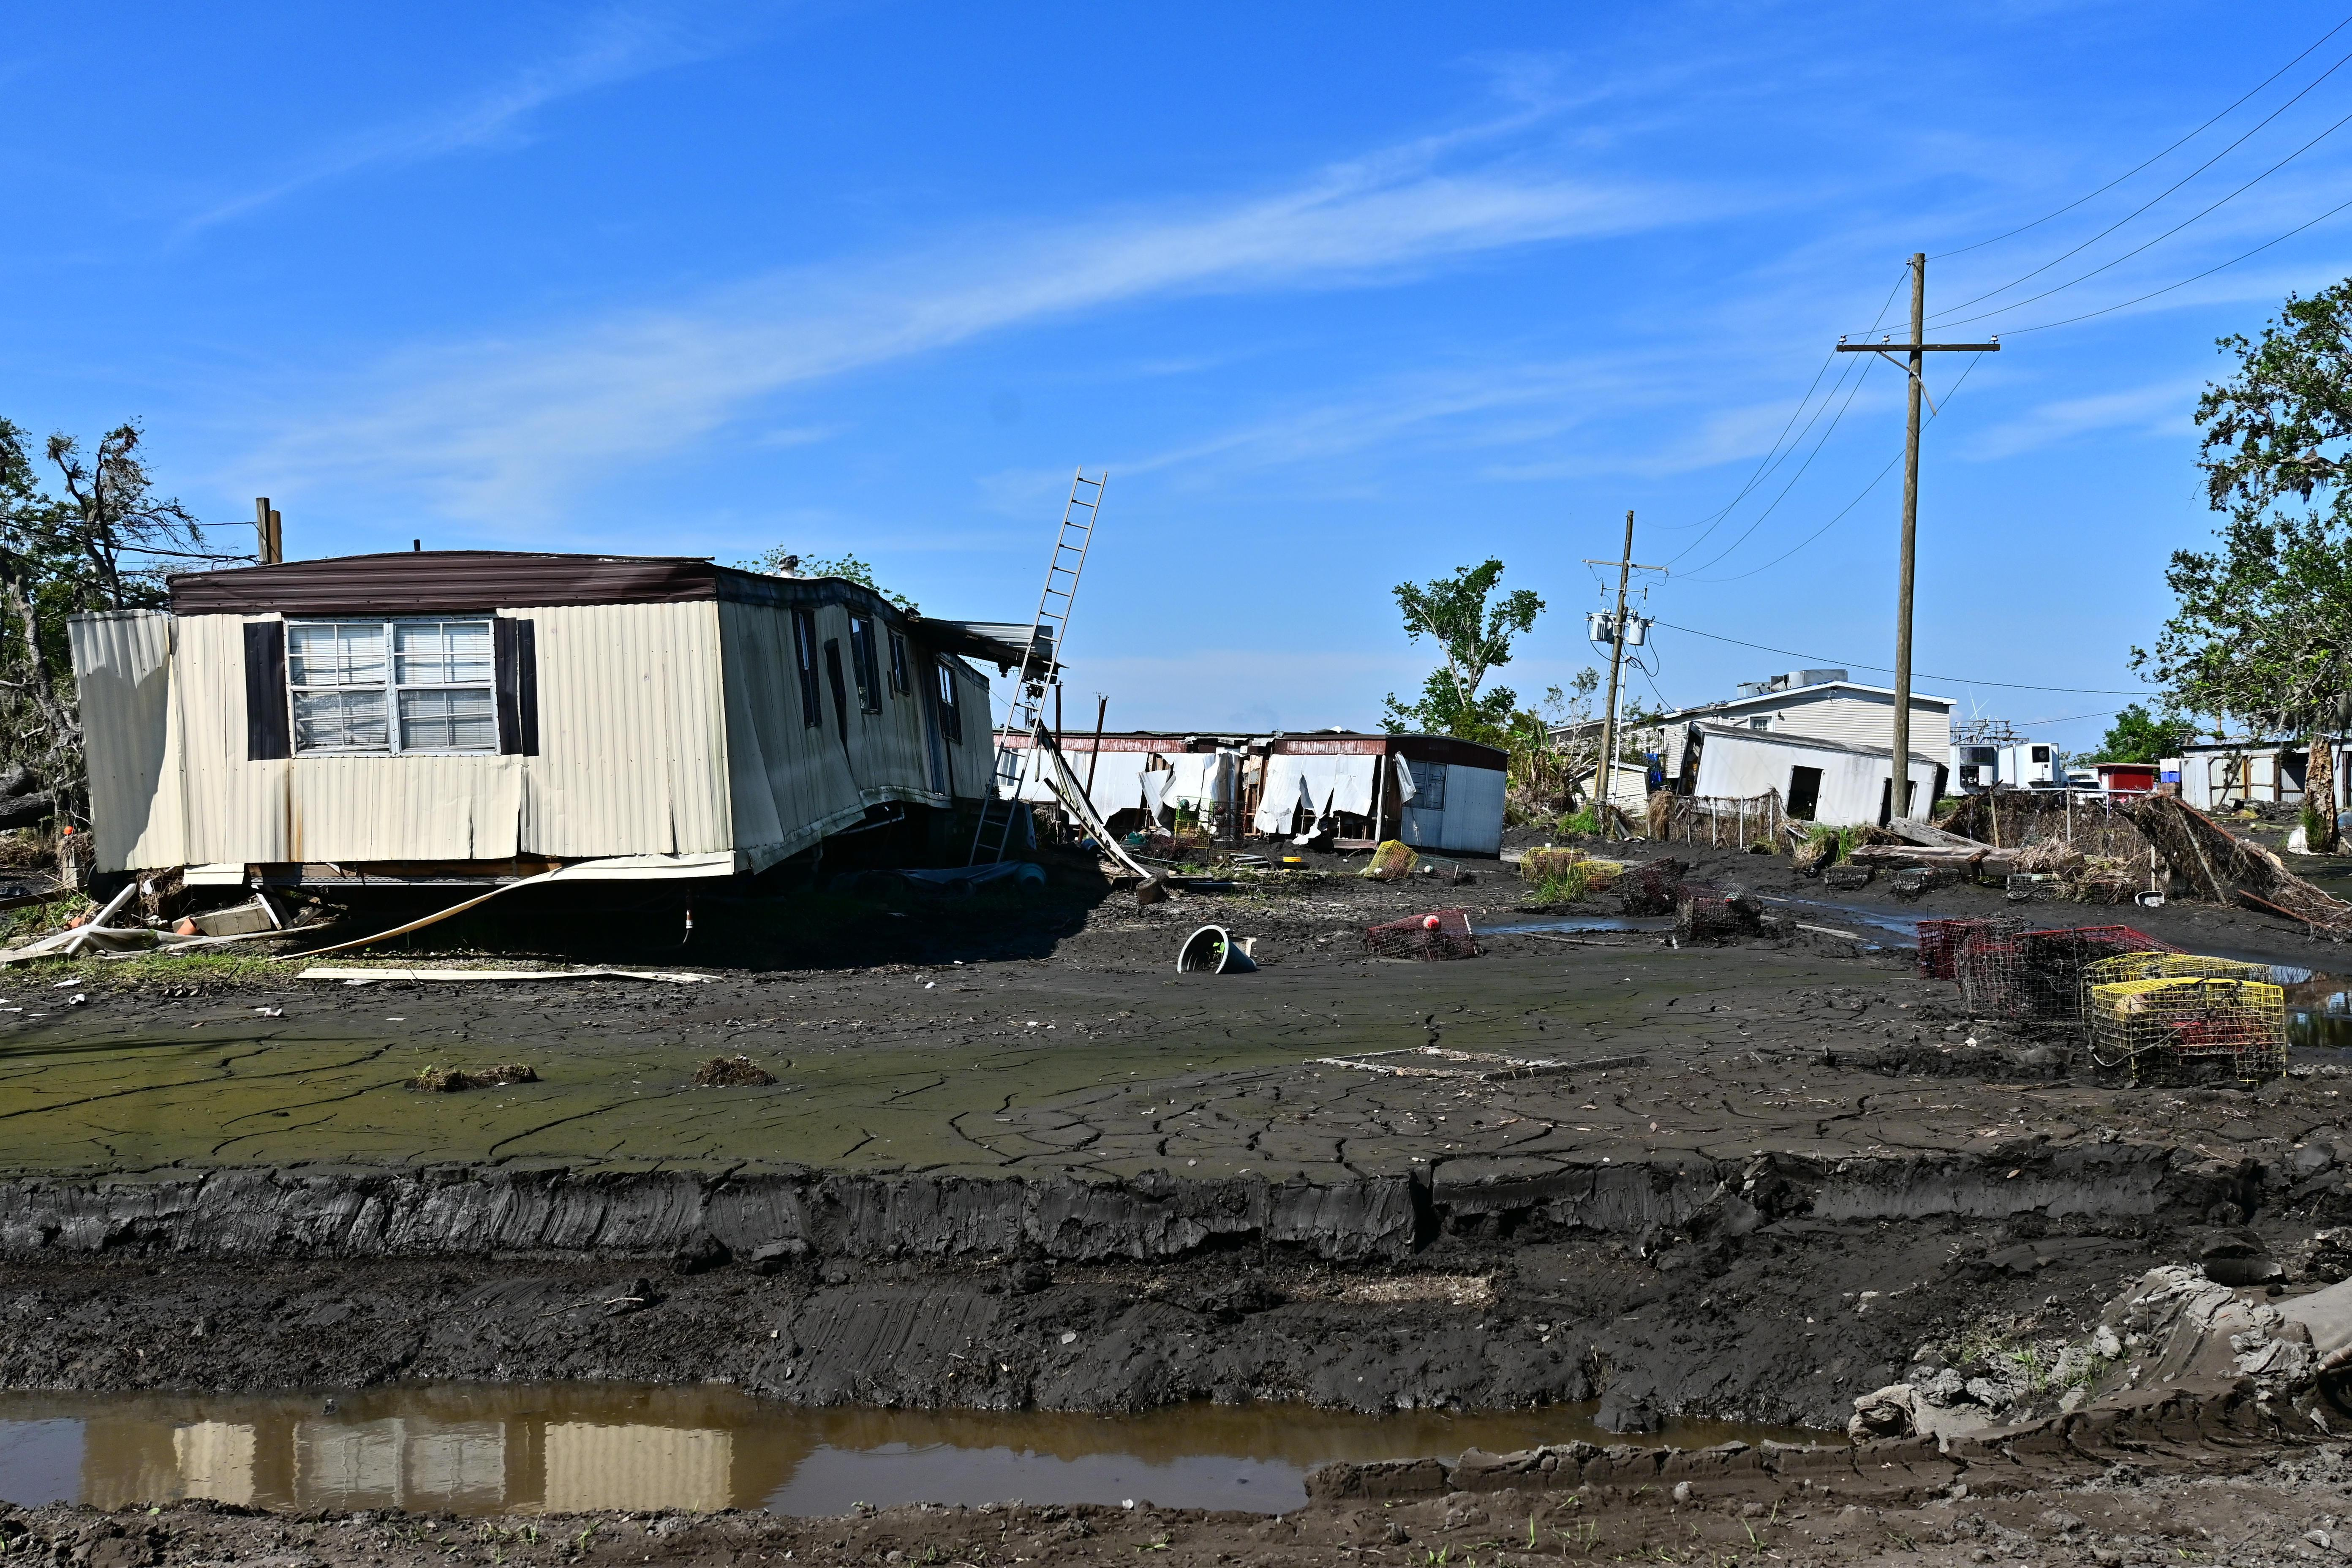destroyed: (68, 478, 1193, 987)
